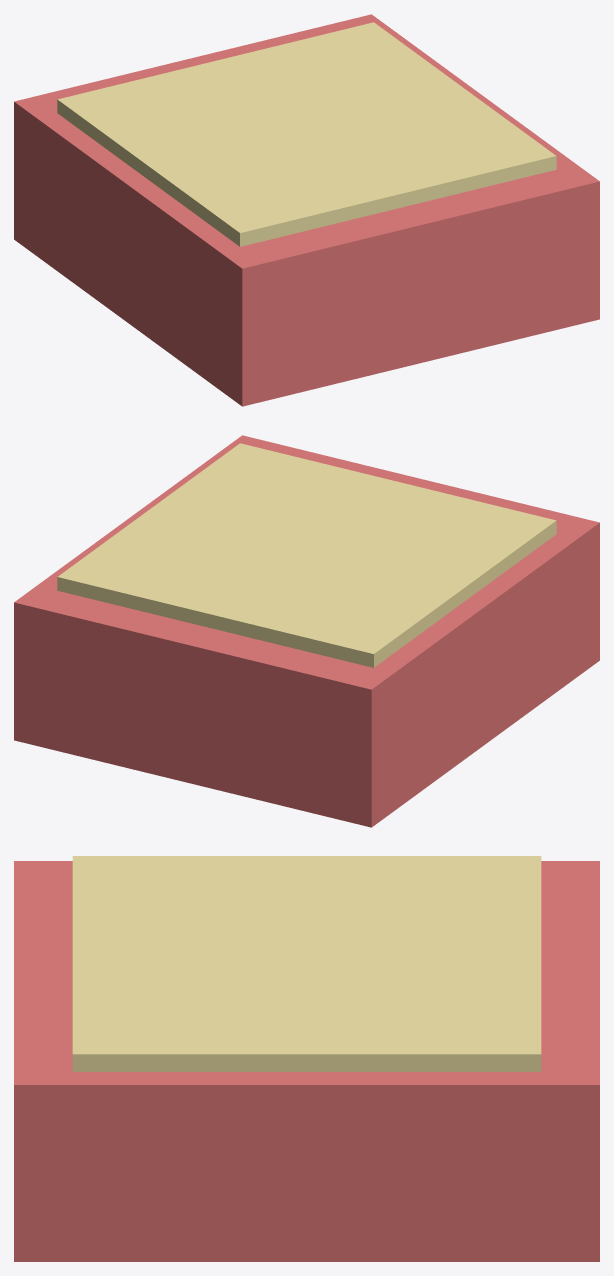
The model's file is Prop_Pet_AMF_Bowl_V6.glb.
The picture shows the model from 3 angles, top to bottom: view 1: azimuth 30°, elevation 25°; view 2: azimuth 150°, elevation 25°; view 3: azimuth 270°, elevation 25°; orthographic projection. The views are drawn at different scales.
Visible parts, largest first — view 1: Prop_Pet_AMF_Bowl_V6; view 2: Prop_Pet_AMF_Bowl_V6; view 3: Prop_Pet_AMF_Bowl_V6.
Boxes of the visible parts, x1=… form: Prop_Pet_AMF_Bowl_V6: x1=14, y1=14, x2=599, y2=406; Prop_Pet_AMF_Bowl_V6: x1=14, y1=435, x2=599, y2=827; Prop_Pet_AMF_Bowl_V6: x1=14, y1=856, x2=599, y2=1261.
Size of the model in its own units: 0.2713 by 0.11 by 0.3.
